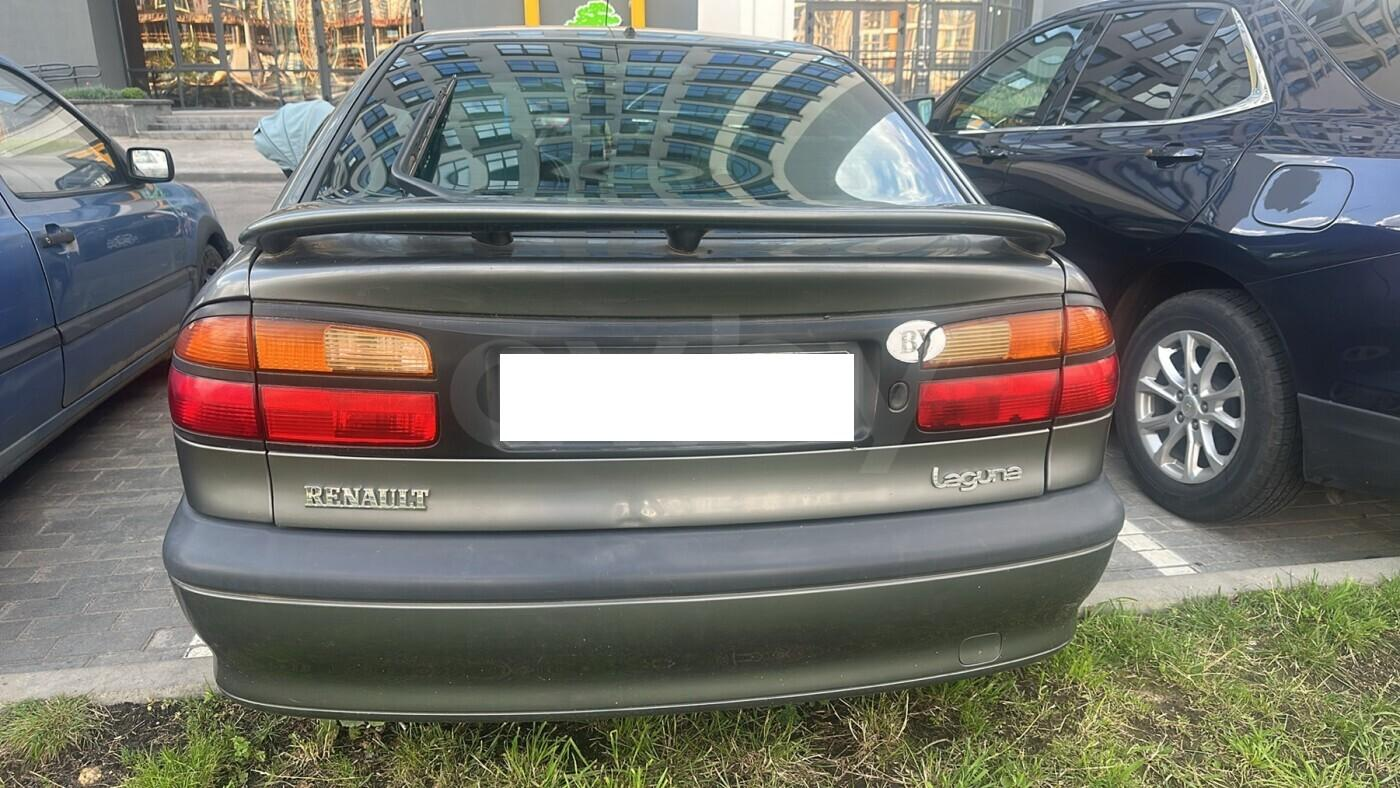Laguna_1998-2001: (163, 22, 1132, 732)
